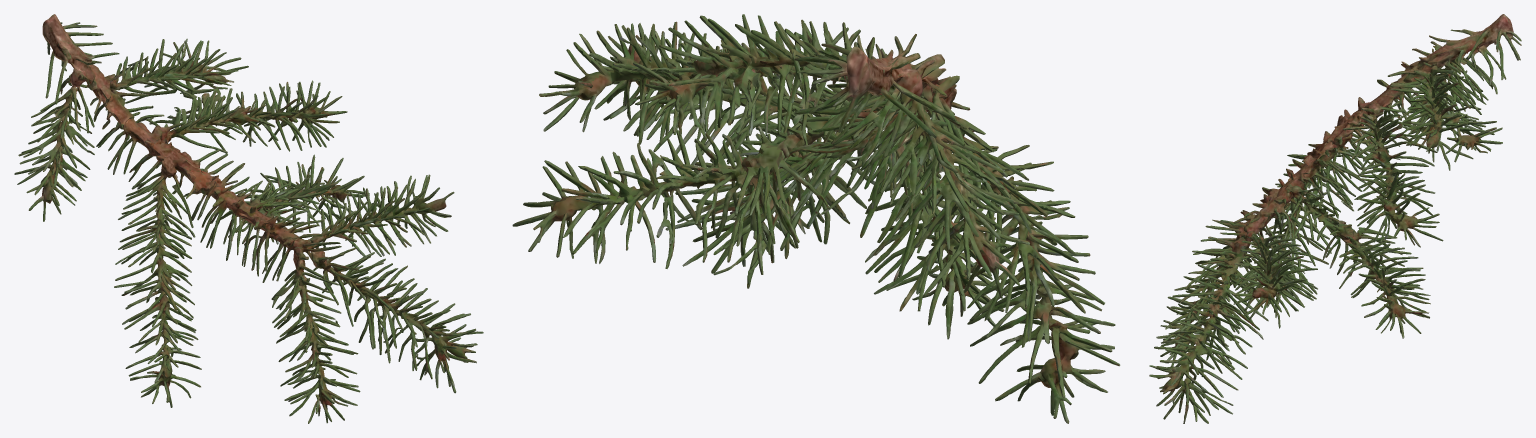
The model's file is spruce-branch-v6.glb.
3 renders of one model, left to right at view 1: azimuth 30°, elevation 25°; view 2: azimuth 150°, elevation 25°; view 3: azimuth 270°, elevation 25°, orthographic. The views are drawn at different scales.
Visible parts, largest first — view 1: geometry_0; view 2: geometry_0; view 3: geometry_0.
Part boxes in pixels (x1,y1,x2,y2): geometry_0: [14, 14, 483, 423]; geometry_0: [512, 14, 1120, 423]; geometry_0: [1149, 14, 1521, 423].
Bounding box in the file's own units: 0.3499 × 0.3145 × 0.3472.
Materials: 1 (1 with a texture image).
